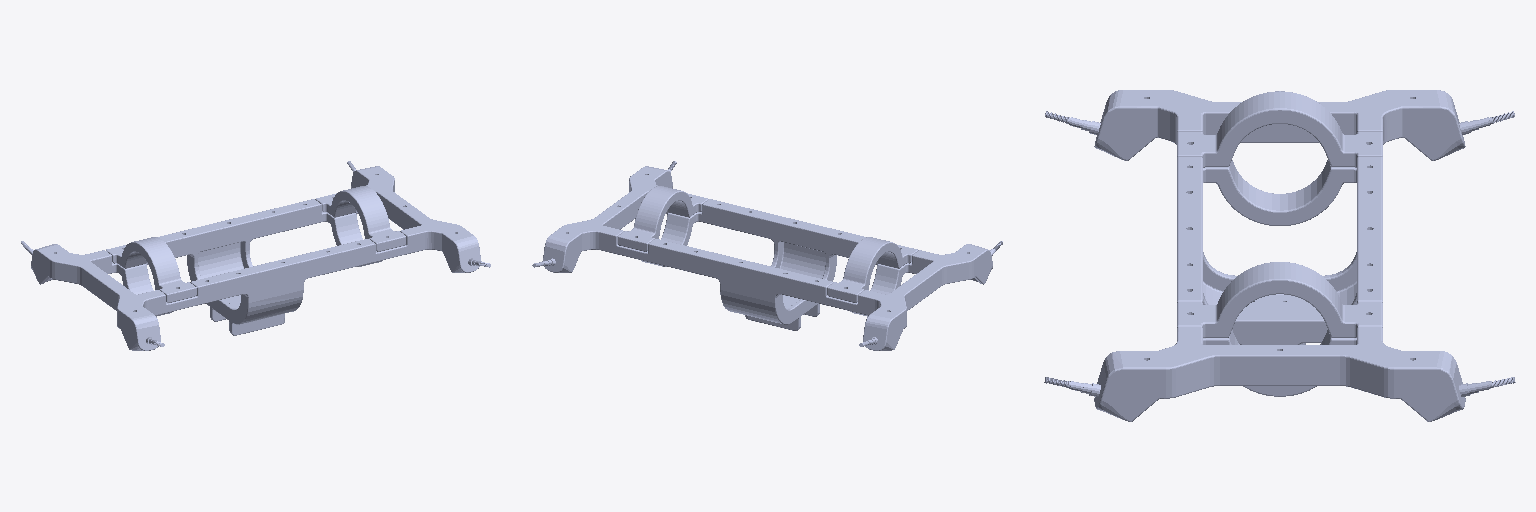
The robot description file, URDF, robot "URDF_sensor_platform_simplified":
<?xml version="1.0" encoding="utf-8"?>
<!-- This URDF was automatically created by SolidWorks to URDF Exporter! Originally created by [author] ([email redacted]) 
     Commit Version: 1.6.0-4-g7f85cfe  Build Version: 1.6.7995.38578
     For more information, please see http://wiki.ros.org/sw_urdf_exporter -->
<robot
  name="URDF_sensor_platform_simplified">
  <link
    name="base_link">
    <inertial>
      <origin
        xyz="-0.00160874950952901 -0.000124365523785747 -0.0068136803413703"
        rpy="0 0 0" />
      <mass
        value="0.584644252400981" />
      <inertia
        ixx="0.00181695467466018"
        ixy="-2.97473311710986E-07"
        ixz="-2.7758682434967E-05"
        iyy="0.00840354375953609"
        iyz="-3.79217897579042E-06"
        izz="0.00987577873844641" />
    </inertial>
    <visual>
      <origin
        xyz="0 0 0"
        rpy="0 0 0" />
      <geometry>
        <mesh
          filename="package://URDF_sensor_platform_simplified/meshes/base_link.STL" />
      </geometry>
      <material
        name="">
        <color
          rgba="0.792156862745098 0.819607843137255 0.933333333333333 1" />
      </material>
    </visual>
    <collision>
      <origin
        xyz="0 0 0"
        rpy="0 0 0" />
      <geometry>
        <mesh
          filename="package://URDF_sensor_platform_simplified/meshes/base_link.STL" />
      </geometry>
    </collision>
  </link>
</robot>

--- Facts derived from the render (not from the file) ---
The picture shows the robot from 3 angles, left to right: view 1: azimuth 30°, elevation 25°; view 2: azimuth 150°, elevation 25°; view 3: azimuth 270°, elevation 25°; orthographic projection.
Robot: URDF_sensor_platform_simplified — 1 links, 0 joints (none); root link base_link; default pose: all joints at 0.
Links seen in each view (by area): view 1: base_link; view 2: base_link; view 3: base_link.
Link boxes in pixels (bbox=[...]): base_link: bbox=[21, 161, 490, 350]; base_link: bbox=[532, 161, 1002, 350]; base_link: bbox=[1044, 90, 1515, 421].
Bounding box of the posed robot: 0.3849 × 0.2745 × 0.108 m (x, y, z).
1 mesh visuals loaded from 1 distinct referenced files (1 binary STL).